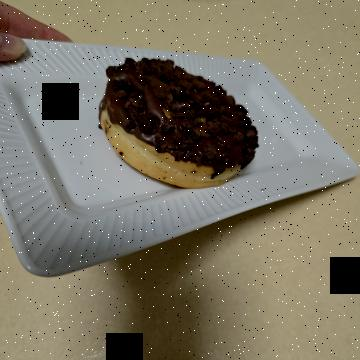doughnut: (49, 107, 208, 294)
